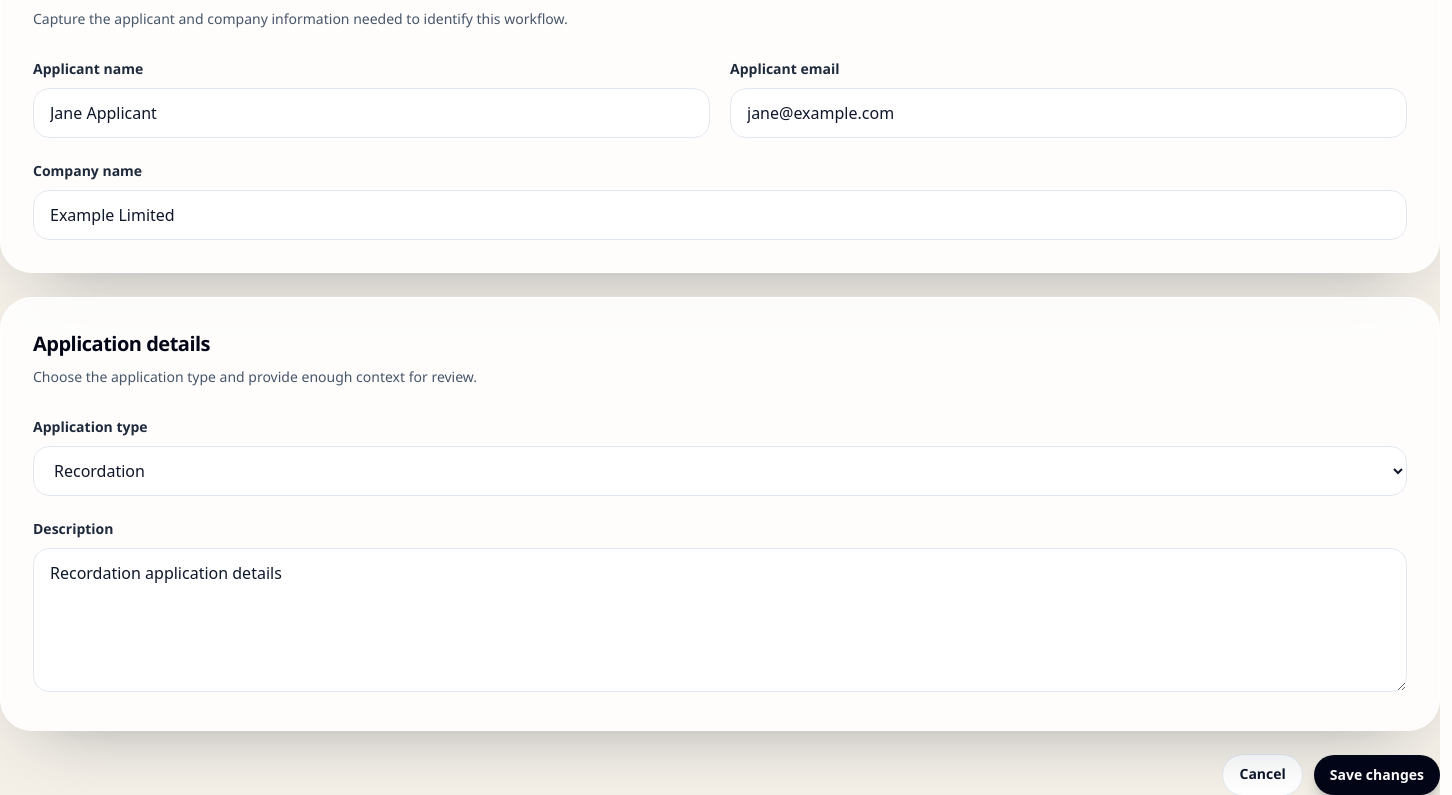
Test case: ApplicationEditPage › shows update mutation errors
(page scrolled)
Click the button "Save changes" at (1377, 775), box [1314,755,1440,794]
(page scrolled)
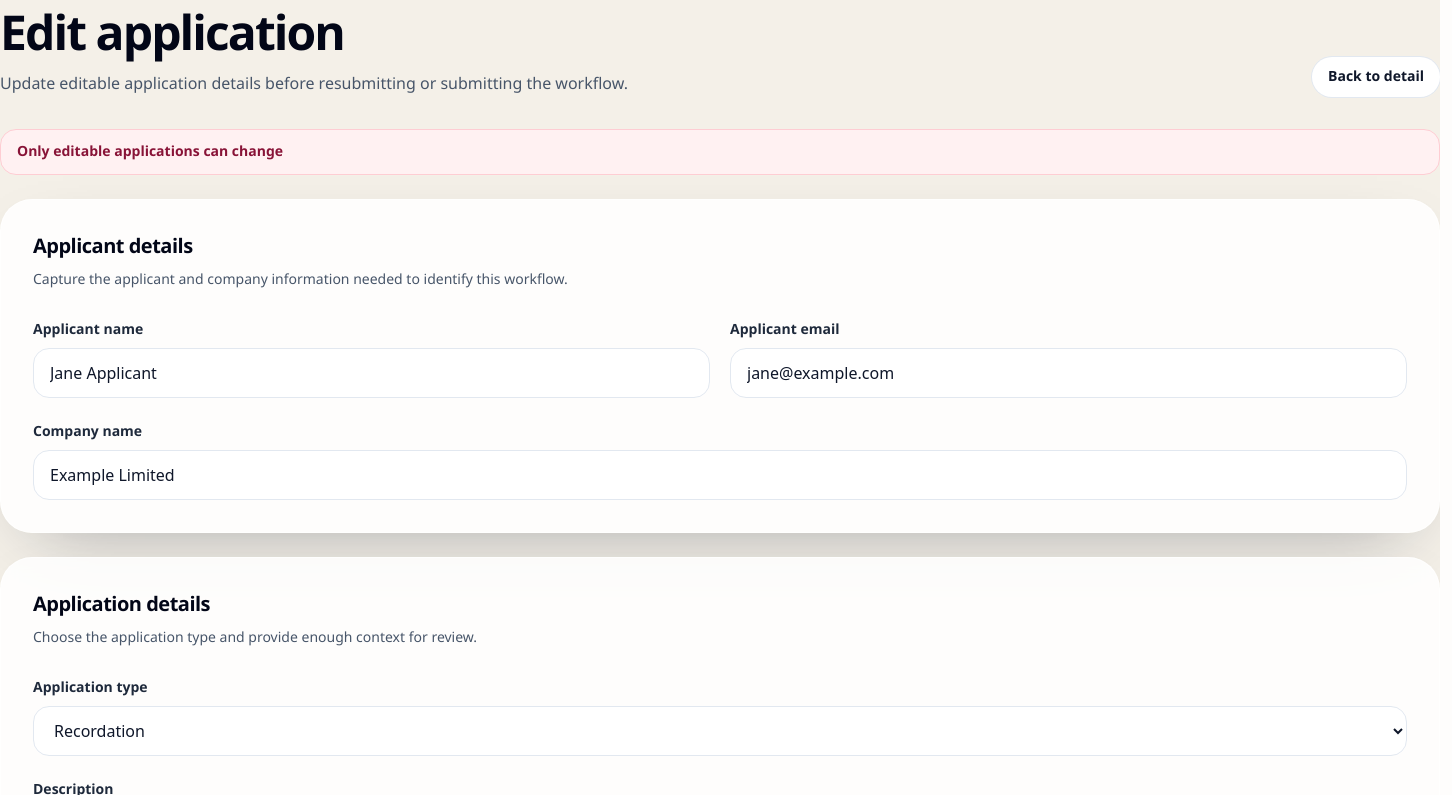
Now the text "Only editable applications can change" is shown, box [0,129,1440,175]
